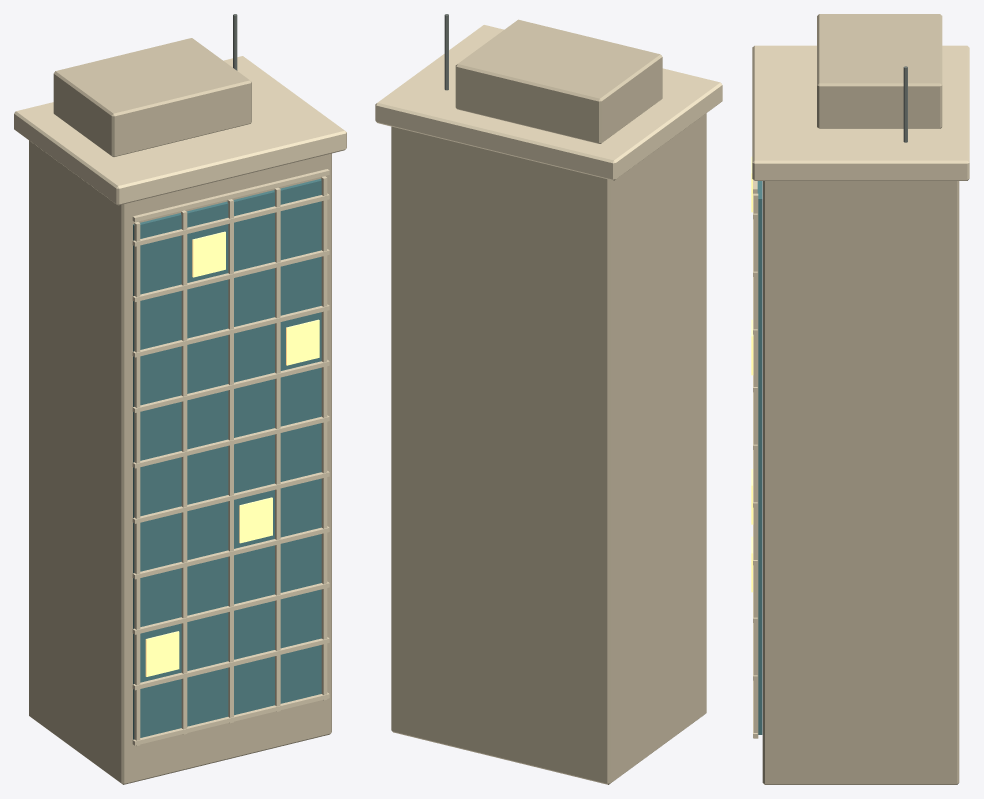
The model's file is hsinchu_office_v2.glb.
3 views of the same model, side by side, from view 1: azimuth 30°, elevation 25°; view 2: azimuth 150°, elevation 25°; view 3: azimuth 270°, elevation 25° (orthographic). The views are drawn at different scales.
Parts seen in each view (by area): view 1: hsinchu_office_v2__hsinchu-warm-concrete, hsinchu_office_v2__hsinchu-teal, hsinchu_office_v2__hsinchu-pale-trim, hsinchu_office_v2__warm-window; view 2: hsinchu_office_v2__hsinchu-warm-concrete, hsinchu_office_v2__hsinchu-pale-trim; view 3: hsinchu_office_v2__hsinchu-warm-concrete, hsinchu_office_v2__hsinchu-pale-trim, hsinchu_office_v2__hsinchu-teal, hsinchu_office_v2__warm-window.
Boxes of the visible parts, bbox=[...] form: hsinchu_office_v2__hsinchu-warm-concrete: bbox=[29, 38, 331, 784]; hsinchu_office_v2__hsinchu-teal: bbox=[133, 178, 321, 739]; hsinchu_office_v2__hsinchu-pale-trim: bbox=[14, 56, 346, 745]; hsinchu_office_v2__warm-window: bbox=[145, 231, 319, 676]; hsinchu_office_v2__hsinchu-warm-concrete: bbox=[391, 19, 706, 784]; hsinchu_office_v2__hsinchu-pale-trim: bbox=[375, 25, 722, 180]; hsinchu_office_v2__hsinchu-warm-concrete: bbox=[762, 14, 959, 784]; hsinchu_office_v2__hsinchu-pale-trim: bbox=[752, 45, 969, 738]; hsinchu_office_v2__hsinchu-teal: bbox=[757, 181, 762, 734]; hsinchu_office_v2__warm-window: bbox=[751, 156, 753, 592].
Size of the model in its own units: 28.3 by 79.36 by 22.28.
